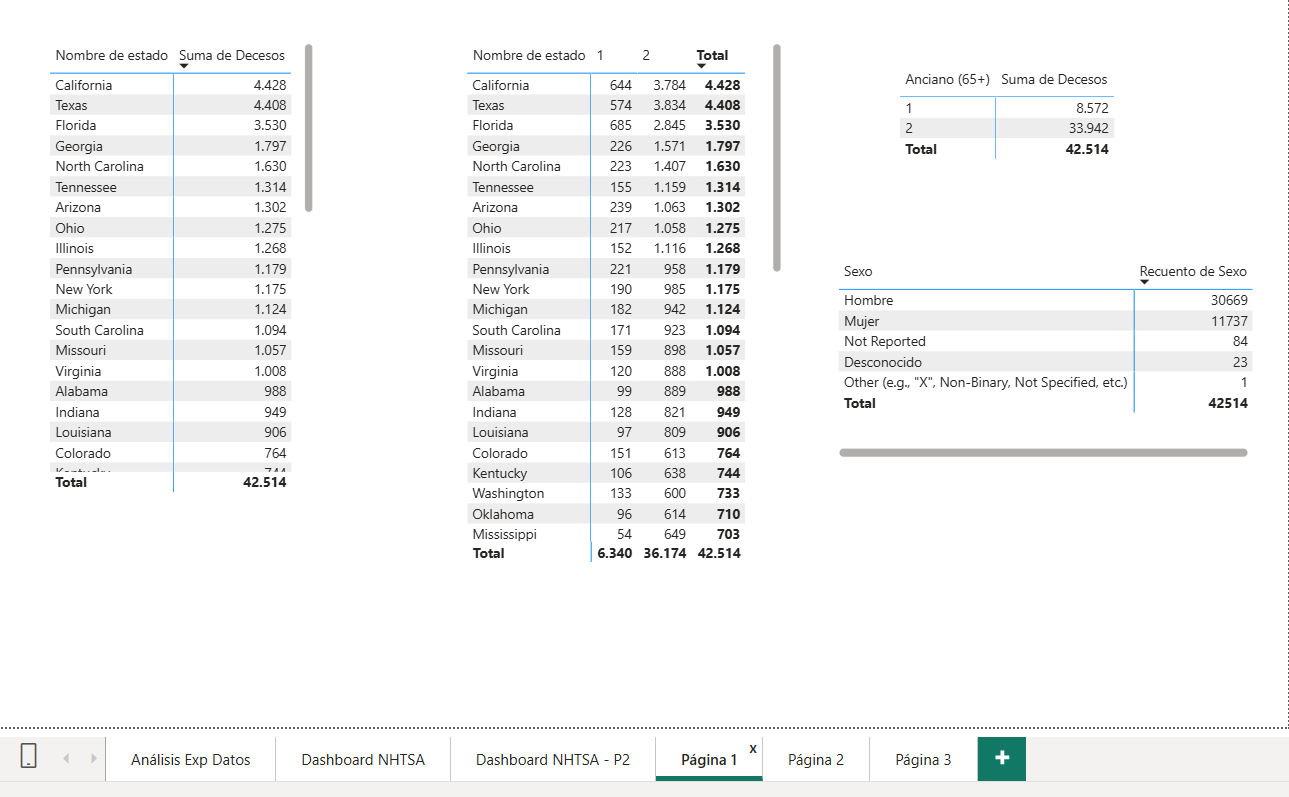

The dashboard page shown, as its layout file describes it:
{"tool":"powerbi","page":{"name":"Página 1","canvas":[1280,720],"ordinal":3},"visuals":[{"type":"pivotTable","fields":{"Rows":["Población de estados.Nombre de estado"],"Values":["Sum(Accidentes USA 2022.Decesos)"]},"box":[63.1,46.7,267.6,448.7],"z":0},{"type":"pivotTable","fields":{"Rows":["Población de estados.Nombre de estado"],"Columns":["Auxiliar Accidentes USA 2022.Motocicleta"],"Values":["Sum(Accidentes USA 2022.Decesos)"]},"box":[472,46.7,317,517.3],"z":1000},{"type":"pivotTable","fields":{"Rows":["Auxiliar Accidentes USA 2022.Anciano (65+)"],"Values":["Sum(Accidentes USA 2022.Decesos)"]},"box":[894.7,70,229.2,130.4],"z":2000},{"type":"pivotTable","fields":{"Rows":["Personas Accidentes 2022.Sexo"],"Values":["CountNonNull(Personas Accidentes 2022.Sexo)"]},"box":[835.7,258,414.4,203.1],"z":3000}]}

Visuals, with their boxes on the page's 1280x720 design canvas (x1, y1, x2, y2). These are canvas units, not pixel positions in the 1289x797 screenshot, which may show the page scaled, cropped or inside an application window:
pivotTable - Población de estados.Nombre de estado x Sum(Accidentes USA 2022.Decesos): left=63, top=47, right=331, bottom=495
pivotTable - Población de estados.Nombre de estado x Auxiliar Accidentes USA 2022.Motocicleta: left=472, top=47, right=789, bottom=564
pivotTable - Auxiliar Accidentes USA 2022.Anciano (65+) x Sum(Accidentes USA 2022.Decesos): left=895, top=70, right=1124, bottom=200
pivotTable - Personas Accidentes 2022.Sexo x CountNonNull(Personas Accidentes 2022.Sexo): left=836, top=258, right=1250, bottom=461
